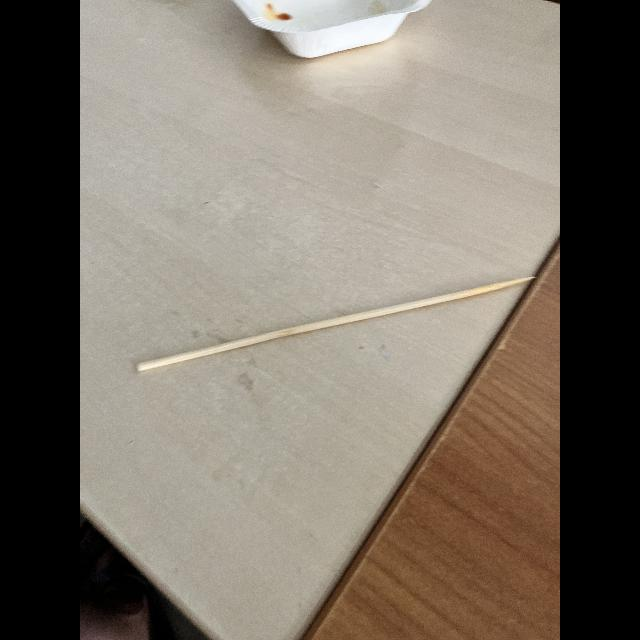stick: (122, 259, 550, 413)
